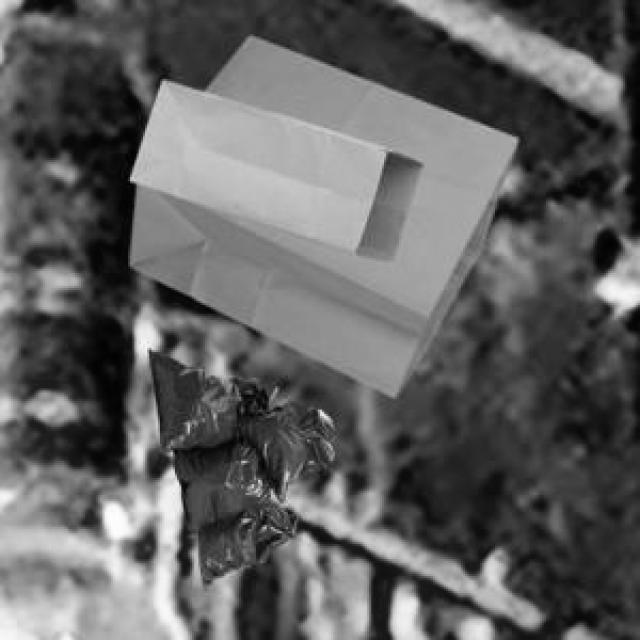miscellaneous trash: (146, 346, 331, 585)
paper: (126, 32, 514, 393), (127, 77, 418, 258)
